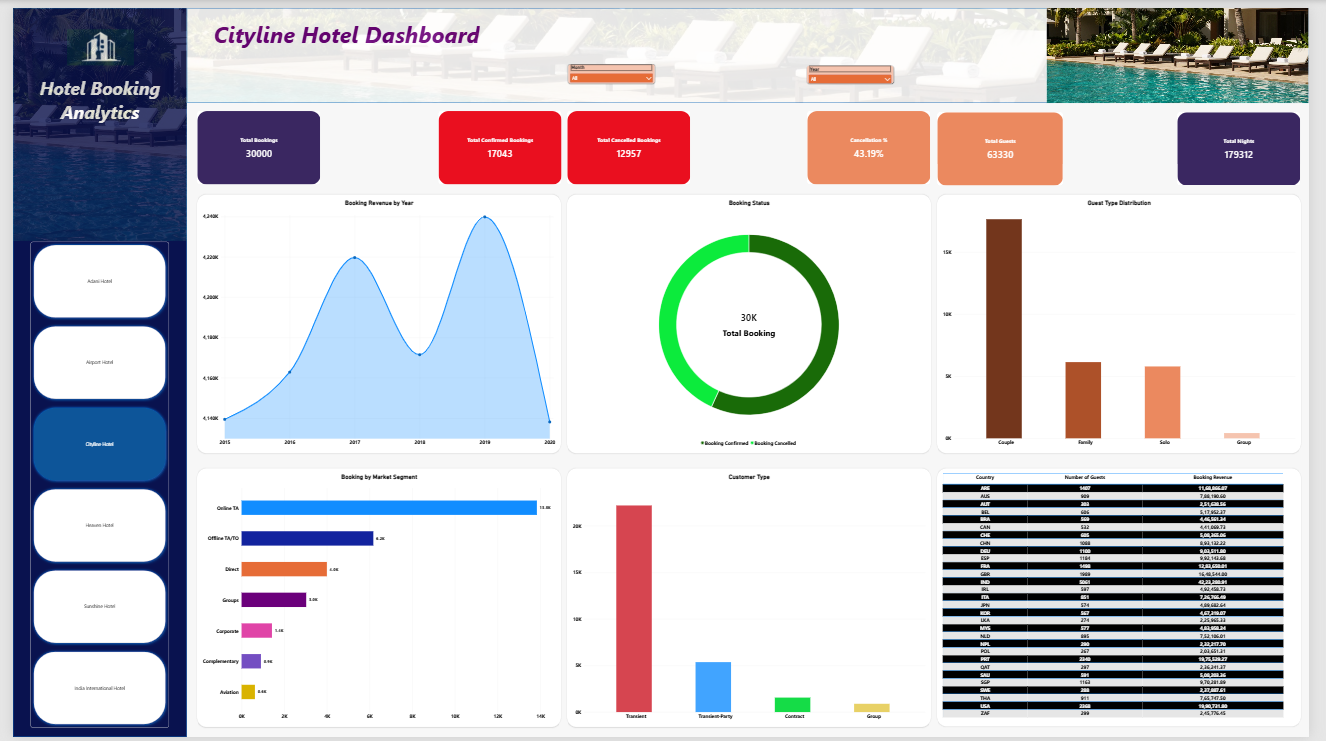

This screenshot's page, from the dashboard's own definition file:
{"tool":"powerbi","page":{"name":"Cityline Hotel","canvas":[3840,2160],"ordinal":2},"visuals":[{"type":"shape","box":[0,0,515,2160],"z":0},{"type":"image","box":[158,62,200,107],"z":1000},{"type":"shape","box":[515.4,0,3323.1,280.8],"z":2000},{"type":"image","box":[3061.5,0,775,281.2],"z":3000},{"type":"image","box":[515.4,0,2546.2,280.8],"z":4000},{"type":"donutChart","title":"Booking  Status ","fields":{"Category":["Cityline_Hotel.Booking  Status"],"Y":["CountNonNull(Cityline_Hotel.Booking  Status)"]},"box":[1642,550,1080,768],"z":5000},{"type":"barChart","title":"Booking by Market Segment ","fields":{"Category":["Cityline_Hotel.market_segment"],"Y":["CountNonNull(Cityline_Hotel.market_segment)"]},"box":[545.5,1363.6,1080,768],"z":6000},{"type":"clusteredColumnChart","title":"Guest  Type  Distribution","fields":{"Category":["Cityline_Hotel.Guest  Type"],"Y":["CountNonNull(Cityline_Hotel.Guest  Type)"]},"box":[2736,550,1080,768],"z":7000},{"type":"stackedAreaChart","title":"Booking  Revenue by Year","fields":{"Category":["Cityline_Hotel.Year"],"Y":["Sum(Cityline_Hotel.Booking  Revenue)"]},"box":[544,550,1080,768],"z":8000},{"type":"cardVisual","title":"Total Bookings","fields":{"Data":["Cityline_Hotel.Total  Bookings"]},"box":[1257.5,305,367.5,220],"z":9000},{"type":"cardVisual","title":"Total Bookings","fields":{"Data":["Sum(Cityline_Hotel.Total  Nights)"]},"box":[3447.2,305.6,367.3,219.2],"z":10000},{"type":"cardVisual","title":"Total Bookings","fields":{"Data":["Cityline_Hotel.Total  cancelled  Bookings"]},"box":[1640,305,367.5,220],"z":11000},{"type":"cardVisual","title":"Total Bookings","fields":{"Data":["Cityline_Hotel.Total   Guest"]},"box":[2736.1,305.6,375,220],"z":12000},{"type":"cardVisual","title":"Total Bookings","fields":{"Data":["Cityline_Hotel.Cancellation    %"]},"box":[2352.5,305,367.5,220],"z":13000},{"type":"image","box":[0,0,515,690],"z":14000},{"type":"pageNavigator","box":[53.3,693.3,410,1440],"z":15000},{"type":"slicer","fields":{"Values":["Cityline_Hotel.Year"]},"box":[2352,169.3,257.3,53.3],"z":16000},{"type":"slicer","fields":{"Values":["Cityline_Hotel.Month"]},"box":[1642.7,165.3,257.8,57.8],"z":17000},{"type":"clusteredColumnChart","title":"Customer Type","fields":{"Category":["Cityline_Hotel.customer_type"],"Y":["CountNonNull(Cityline_Hotel.customer_type)"]},"box":[1640.9,1363.6,1080,768],"z":18000},{"type":"tableEx","fields":{"Values":["Cityline_Hotel.country","CountNonNull(Cityline_Hotel.country)","Sum(Cityline_Hotel.Booking  Revenue)"]},"box":[2736.4,1363.6,1080.4,766.1],"z":19000},{"type":"cardVisual","title":"Total Bookings","fields":{"Data":["CountNonNull(Cityline_Hotel.Booking  Status)"]},"box":[544,305.3,367.5,220],"z":19001}]}

Visuals, with their boxes in screenshot pixels (x1, y1, x2, y2), scaled from the page's 3840x2160 canvas onto the 1326x741 screenshot:
shape: left=0, top=0, right=178, bottom=740
image: left=55, top=21, right=124, bottom=58
shape: left=178, top=0, right=1325, bottom=96
image: left=1057, top=0, right=1325, bottom=96
image: left=178, top=0, right=1057, bottom=96
"Booking  Status " donutChart: left=567, top=189, right=940, bottom=452
"Booking by Market Segment " barChart: left=188, top=468, right=561, bottom=731
"Guest  Type  Distribution" clusteredColumnChart: left=945, top=189, right=1318, bottom=452
"Booking  Revenue by Year" stackedAreaChart: left=188, top=189, right=561, bottom=452
"Total Bookings" cardVisual: left=434, top=105, right=561, bottom=180
"Total Bookings" cardVisual: left=1190, top=105, right=1317, bottom=180
"Total Bookings" cardVisual: left=566, top=105, right=693, bottom=180
"Total Bookings" cardVisual: left=945, top=105, right=1074, bottom=180
"Total Bookings" cardVisual: left=812, top=105, right=939, bottom=180
image: left=0, top=0, right=178, bottom=237
pageNavigator: left=18, top=238, right=160, bottom=732
slicer - Cityline_Hotel.Year: left=812, top=58, right=901, bottom=76
slicer - Cityline_Hotel.Month: left=567, top=57, right=656, bottom=77
"Customer Type" clusteredColumnChart: left=567, top=468, right=940, bottom=731
tableEx - Cityline_Hotel.country x CountNonNull(Cityline_Hotel.country): left=945, top=468, right=1318, bottom=731
"Total Bookings" cardVisual: left=188, top=105, right=315, bottom=180
